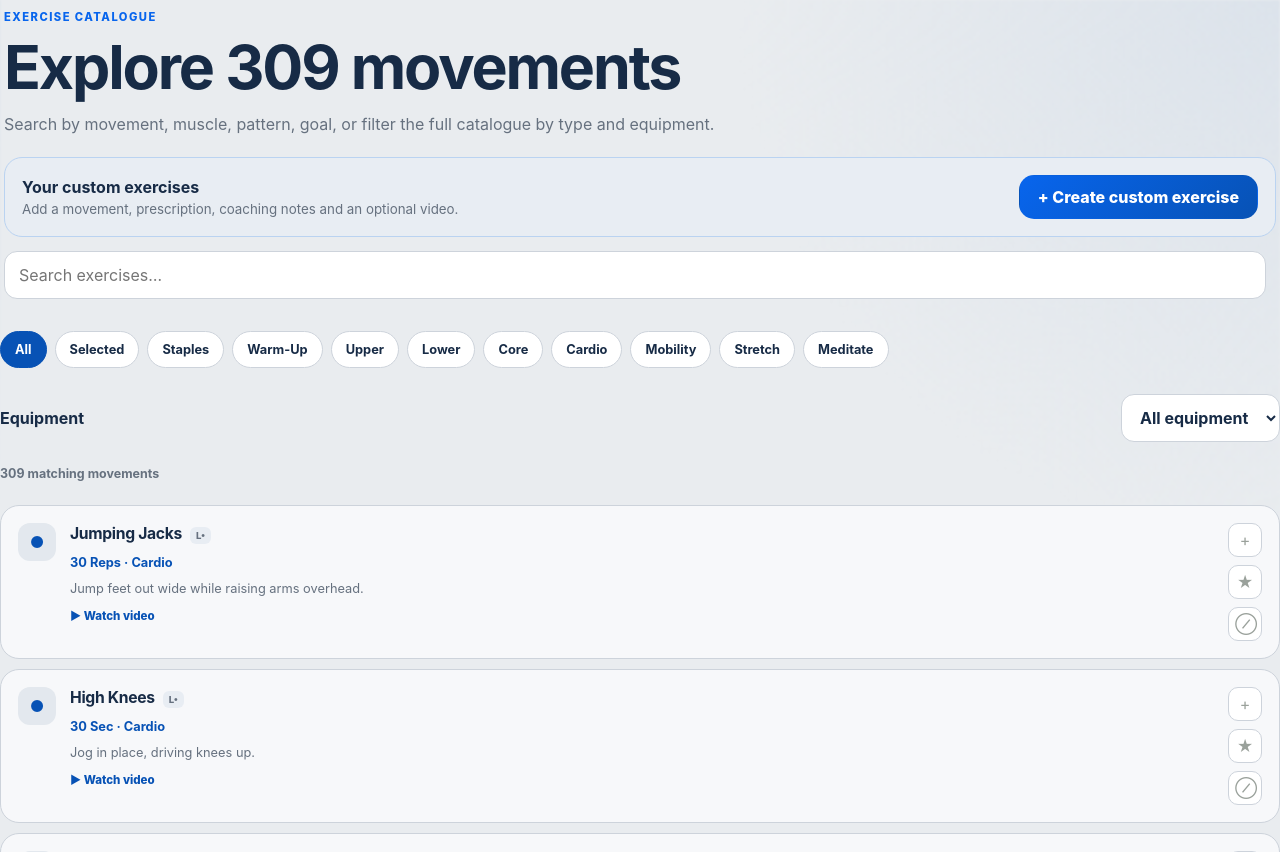
Test: combines category, equipment and search filters and reports empty results
The image size is (1280, 852).
Click the button "Upper".
click(365, 349)  # box [331, 331, 399, 368]
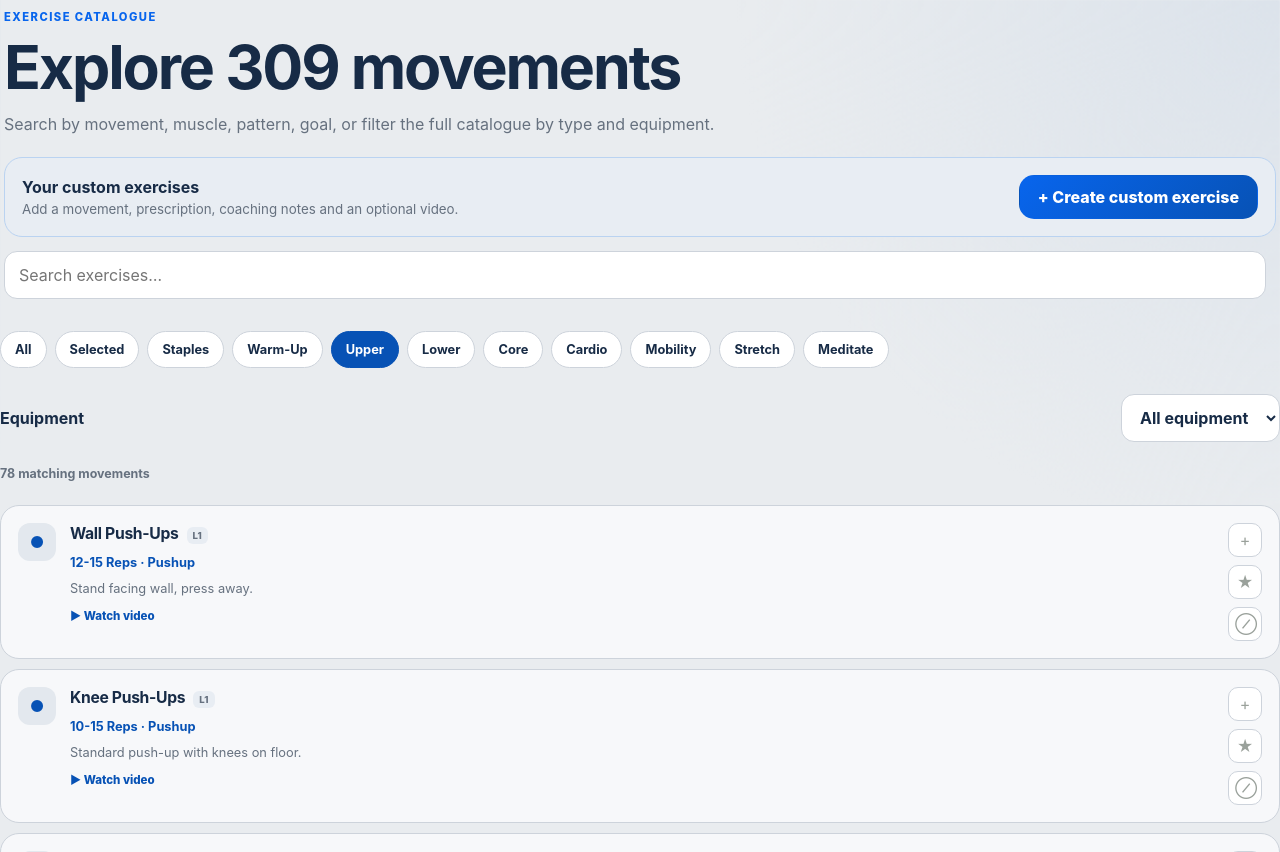
Select "dumbbells" in the dropdown labelled "Equipment" at (1200, 418), box [1121, 394, 1279, 442]
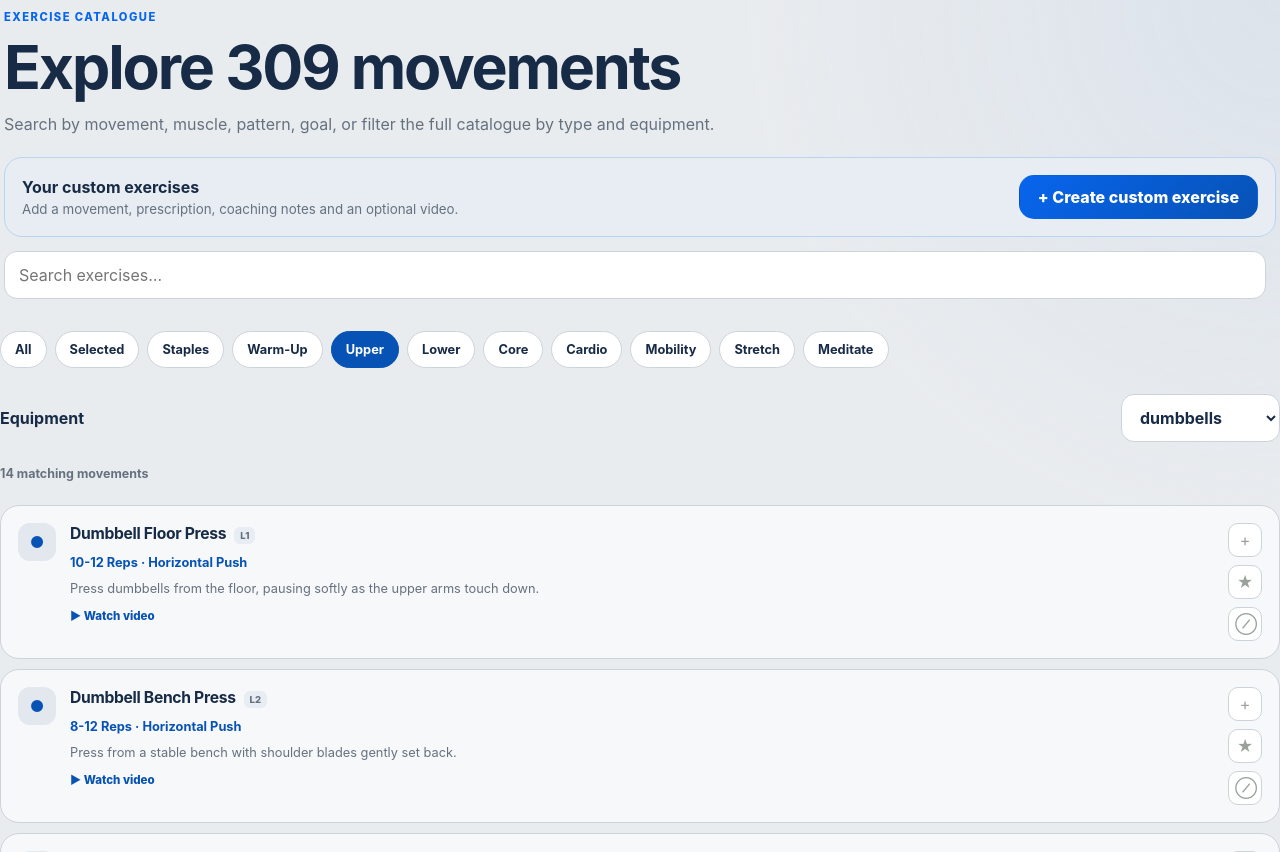
Type "Dumbbell Floor Press" into the search field with placeholder "Search exercises…".
click(635, 275); type("Dumbbell Floor Press")  # box [4, 251, 1266, 299]
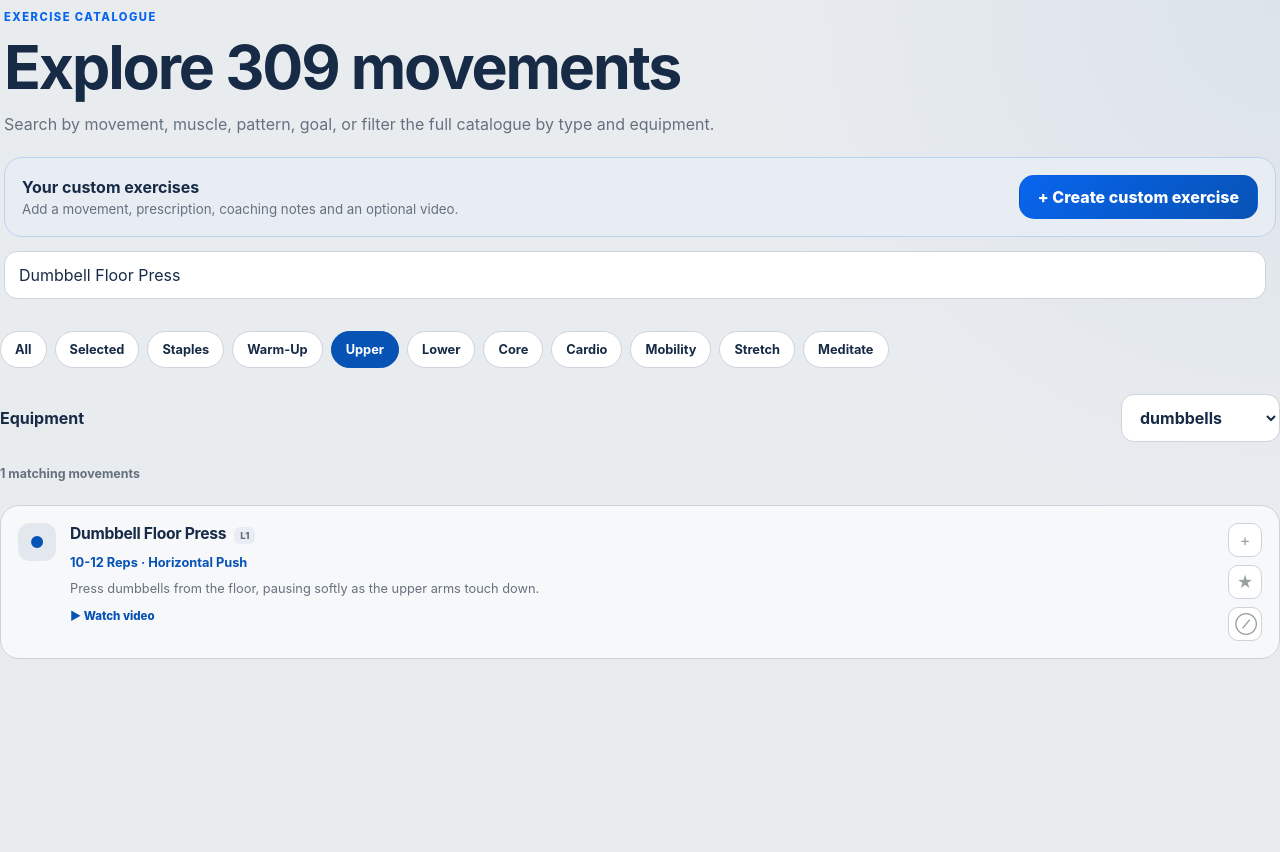
Expected: the heading "Dumbbell Floor Press" is shown, [70, 524, 226, 543]
Replace the text in the search field with placeholder "Search exercises…" with "no such movement anywhere" at (635, 275), box [4, 251, 1266, 299]
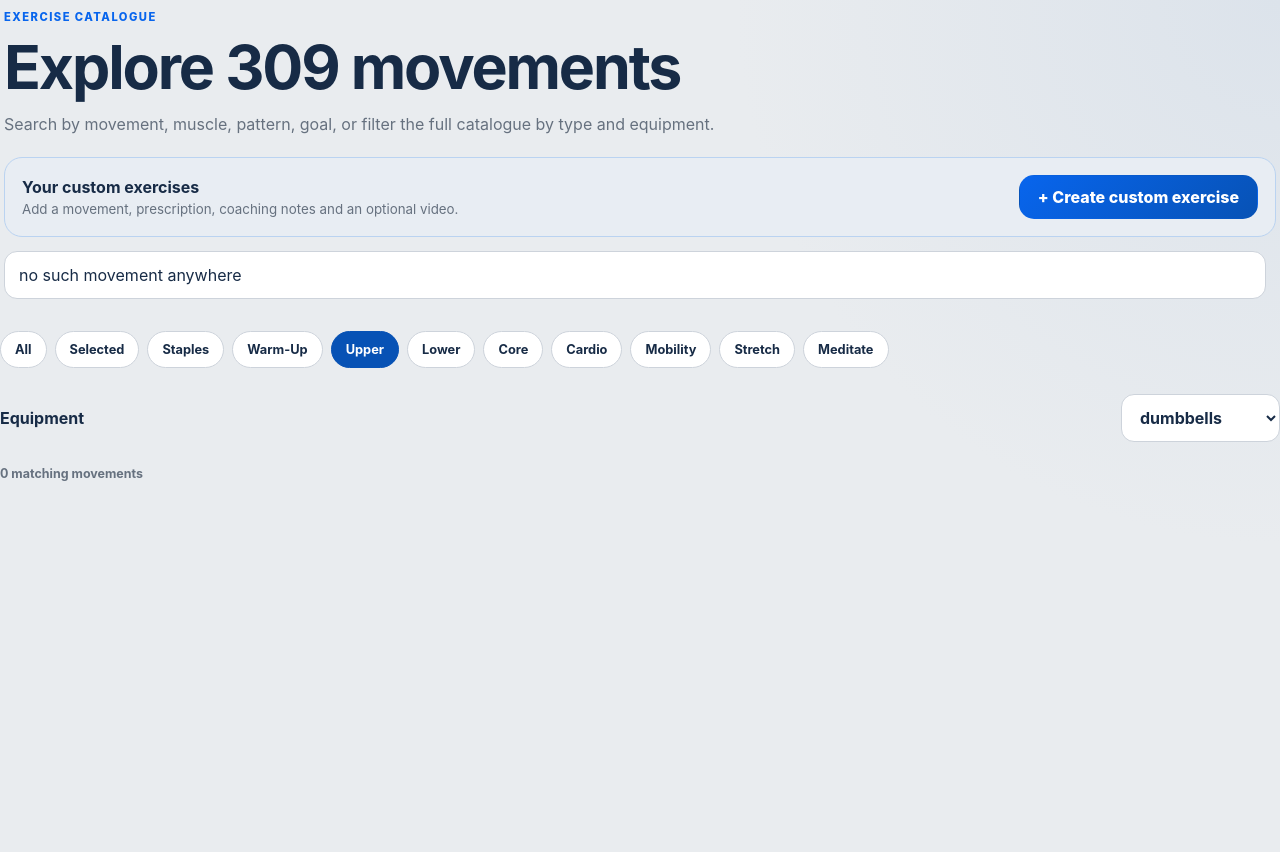
Expected: the text "0 matching movements" is shown, [0, 466, 143, 481]
